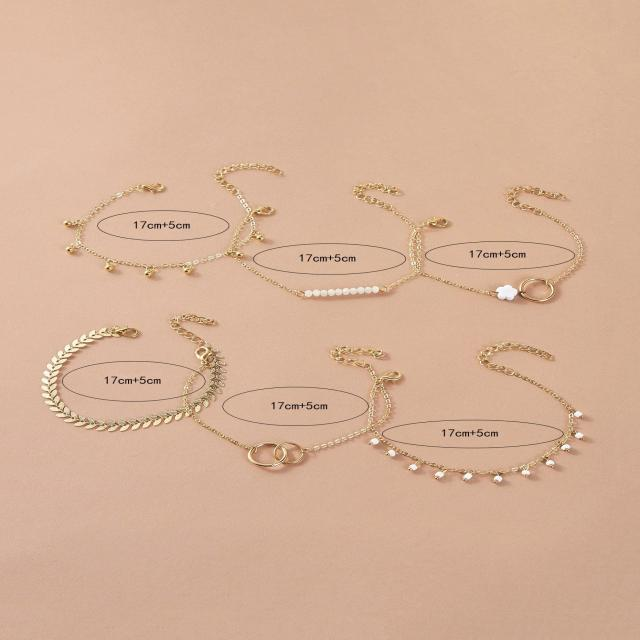bracelet: (331, 309, 640, 540), (6, 114, 282, 306), (169, 298, 413, 504), (213, 141, 454, 341), (366, 186, 640, 360), (13, 287, 233, 462)
